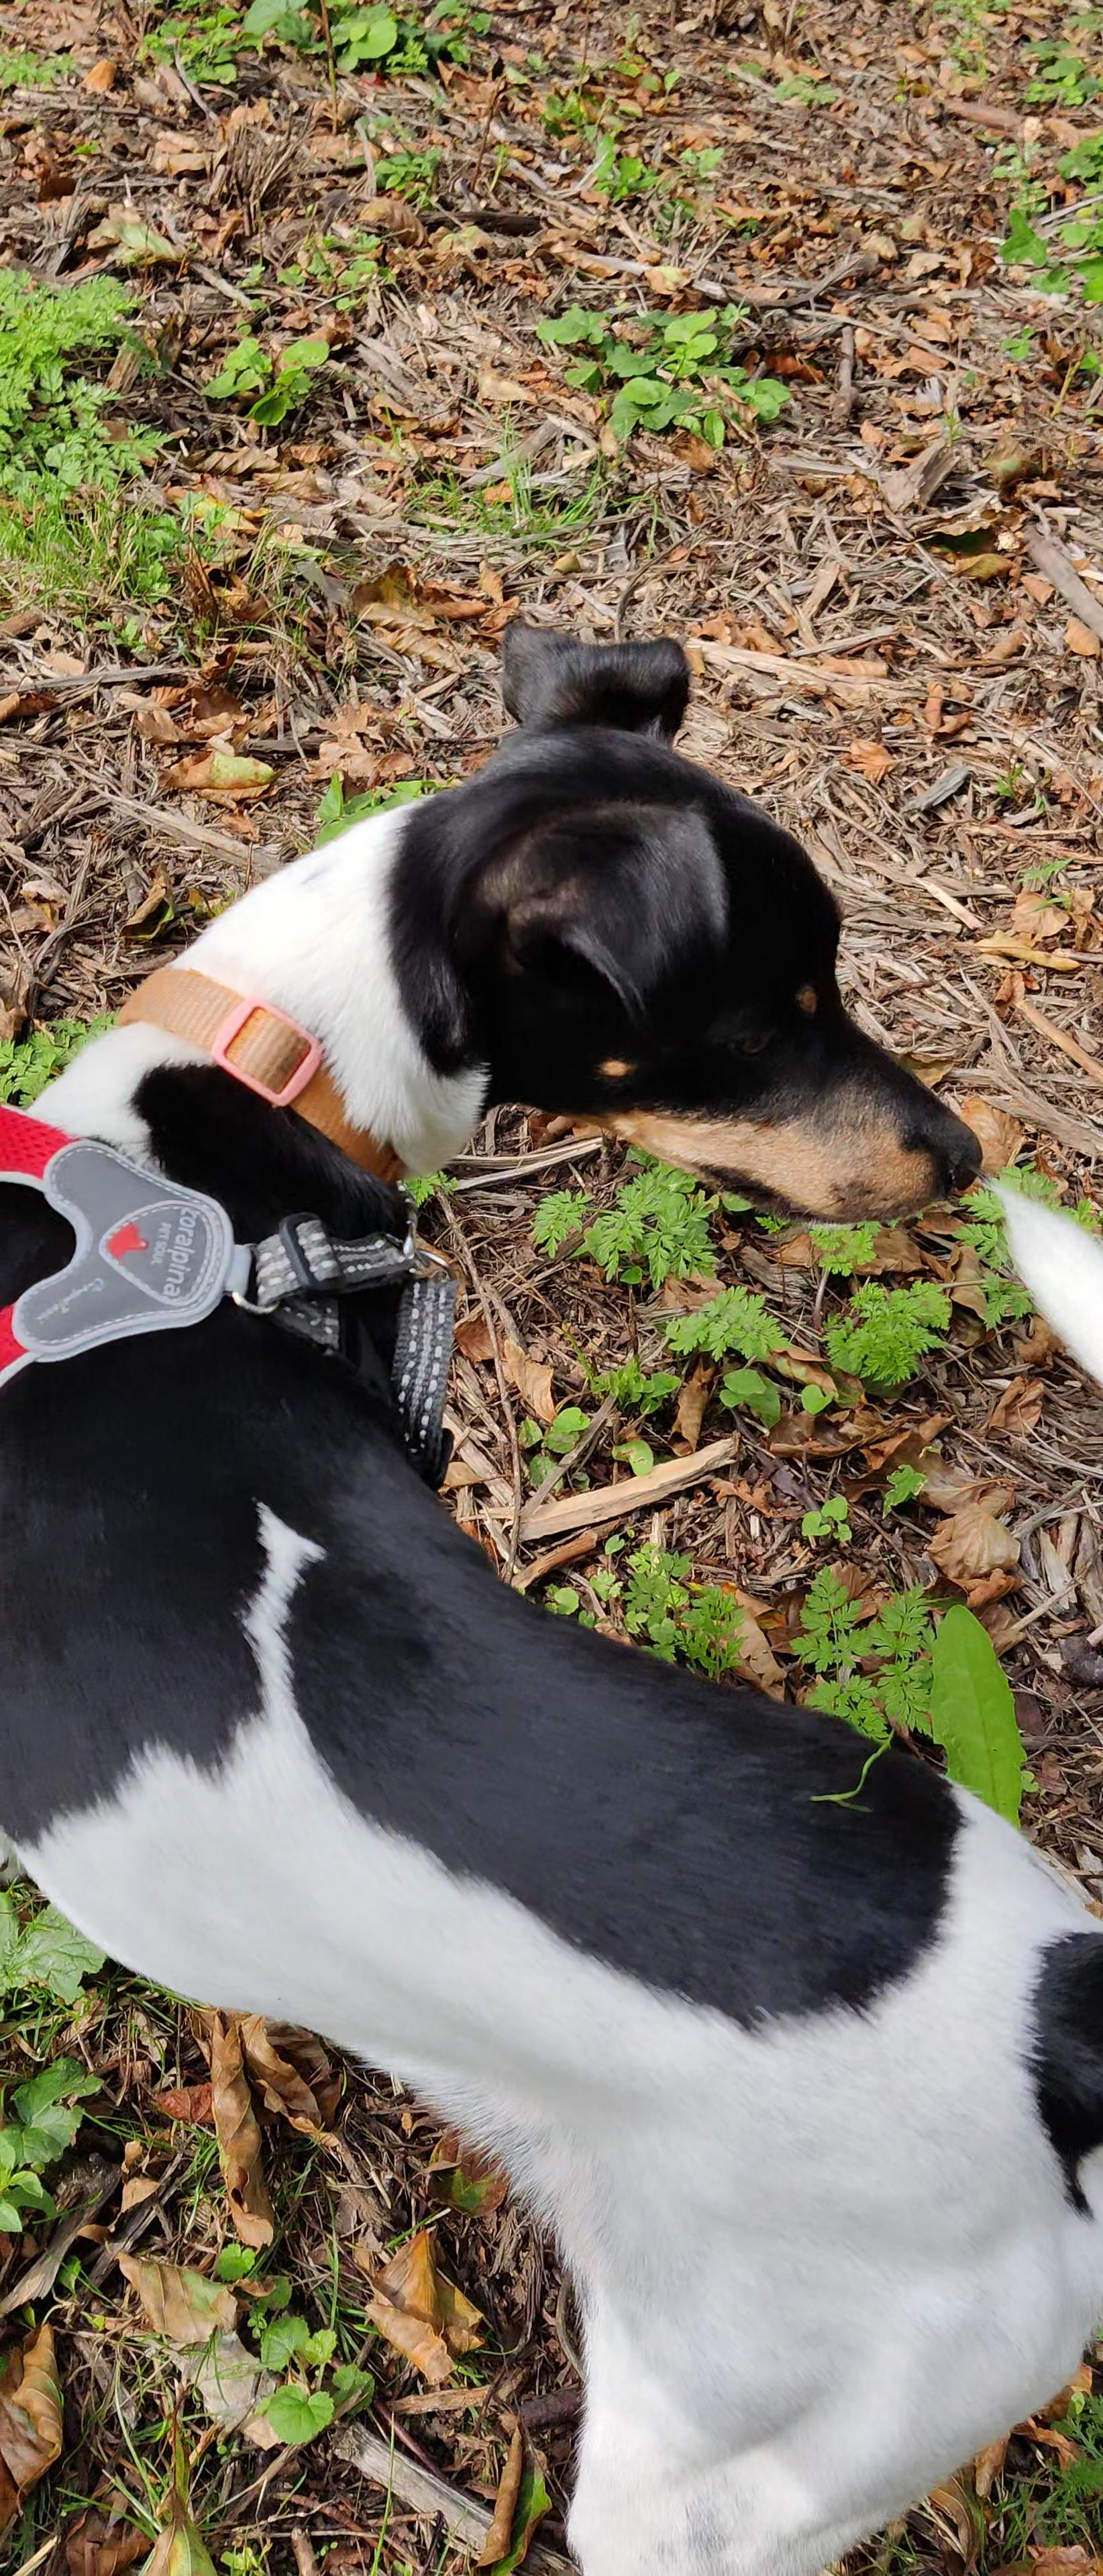Dog: (0, 624, 1103, 2576)
